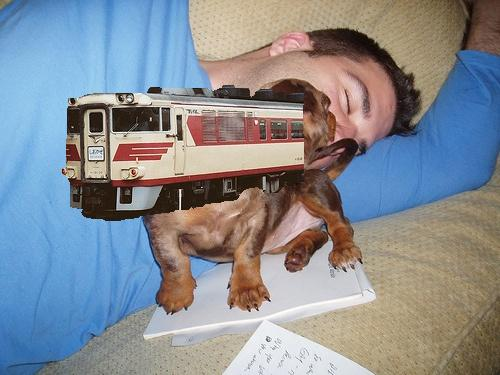tampered: (63, 86, 304, 221)
